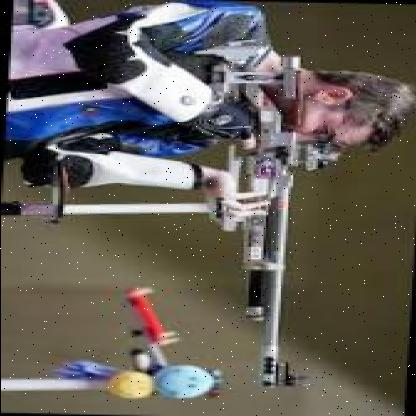rifle: (203, 57, 317, 395)
